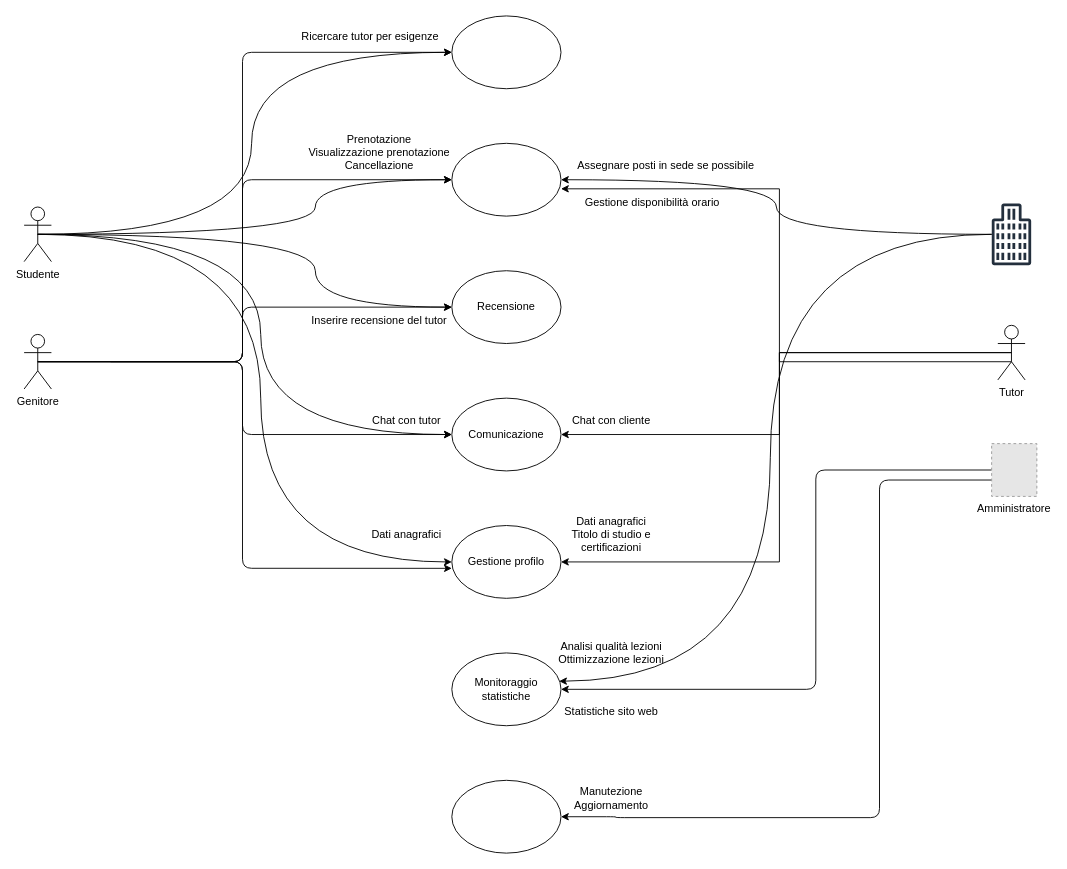
The diagram is 1067 pixels wide and 869 high, and some of its shapes have lost their labels. Grey dashed boxes stand in for pictures. The centre of each missing label's shape, as x and y in pixels:
Gestione prenotazione: the point at 506,179
Istituto: the point at 1011,234
Modifica sistema: the point at 506,816
Ricerca tutor: the point at 506,52
